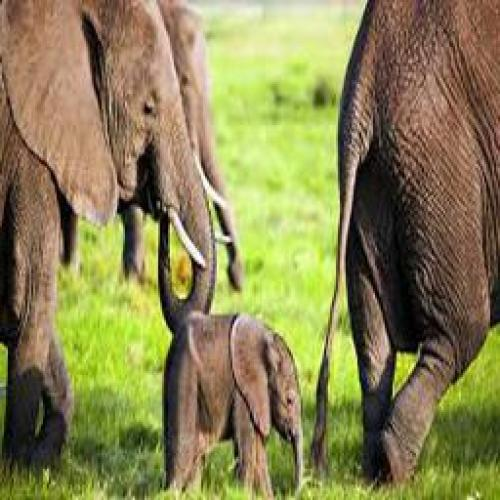african_elephant-endangered: (2, 0, 217, 464), (302, 0, 500, 499), (139, 0, 252, 293), (151, 315, 315, 500)
